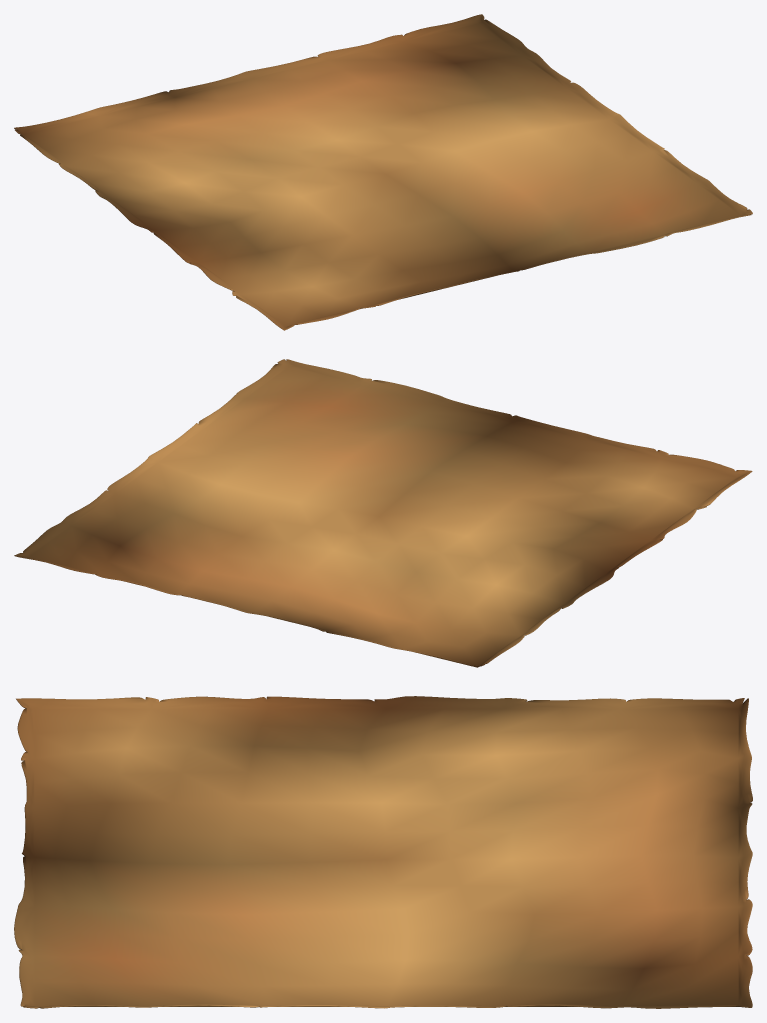
File: ground_01.fbx
3 renders of one model, top to bottom at view 1: azimuth 30°, elevation 25°; view 2: azimuth 150°, elevation 25°; view 3: azimuth 270°, elevation 25°, orthographic. The views are drawn at different scales.
Parts seen in each view (by area): view 1: p_lp.001; view 2: p_lp.001; view 3: p_lp.001.
Part boxes in pixels (<box>): p_lp.001: <box>14,14,752,330</box>; p_lp.001: <box>14,359,752,667</box>; p_lp.001: <box>14,696,752,1008</box>.
Size of the model in its own units: 210 by 2.48 by 210.
